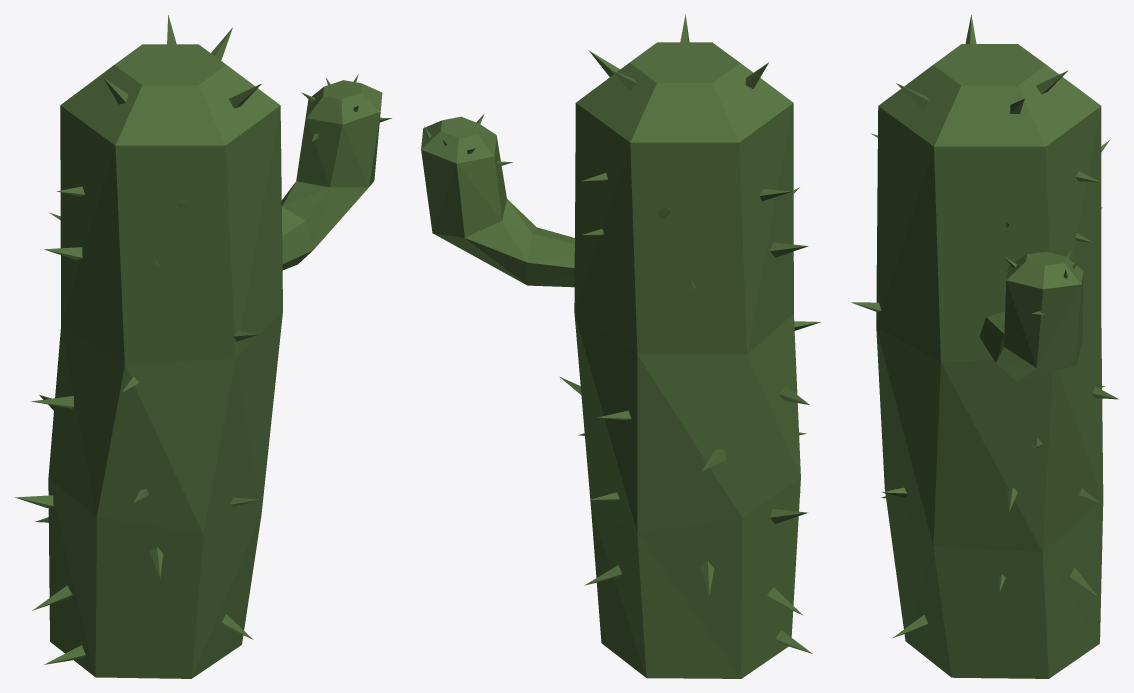
The model's file is cactus2.fbx.
3 renders of one model, left to right at view 1: azimuth 30°, elevation 25°; view 2: azimuth 150°, elevation 25°; view 3: azimuth 270°, elevation 25°, orthographic. The views are drawn at different scales.
Visible parts, largest first — view 1: cactus2_LOD0; view 2: cactus2_LOD0; view 3: cactus2_LOD0.
Part boxes in pixels (x1=…): cactus2_LOD0: x1=15, y1=15, x2=391, y2=678; cactus2_LOD0: x1=421, y1=14, x2=820, y2=678; cactus2_LOD0: x1=851, y1=15, x2=1118, y2=678.
Size of what is drawn, in the model's own units: 155 by 228 by 92.89.
